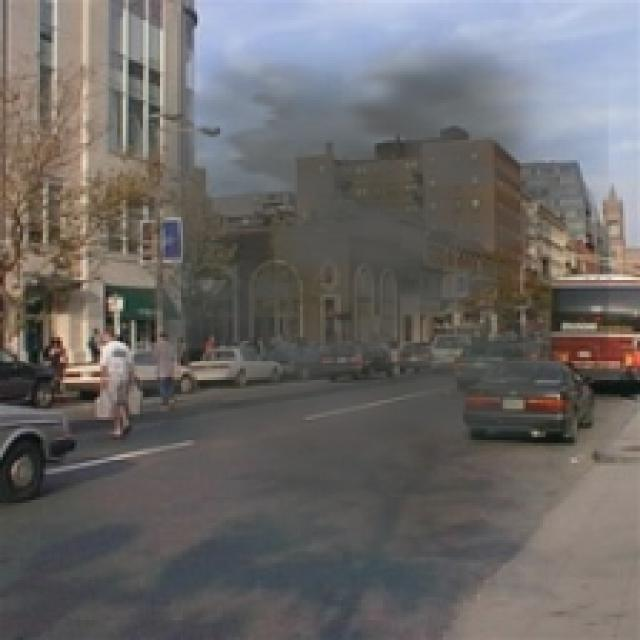Smoke: (51, 14, 608, 557)
